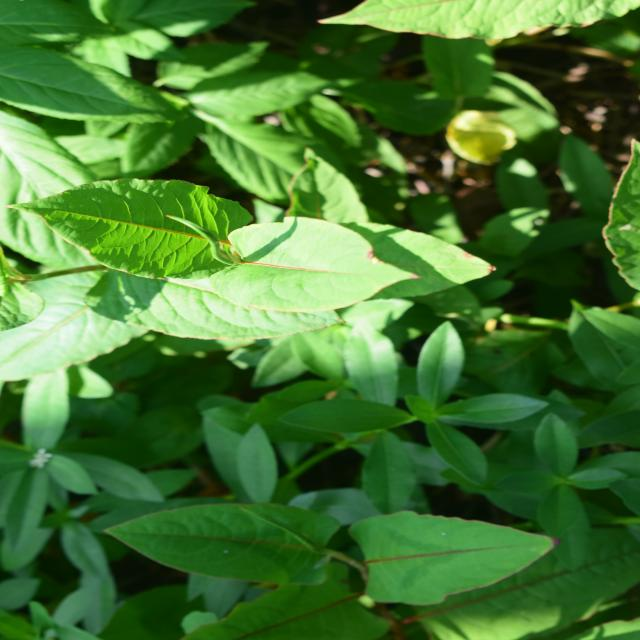Chinese_knotweed: (273, 6, 474, 468)
